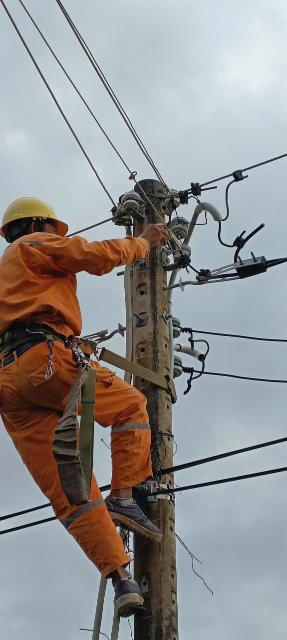harness: (0, 309, 127, 363)
helmet: (0, 181, 85, 248)
shoes: (100, 482, 182, 551), (89, 568, 150, 619)
